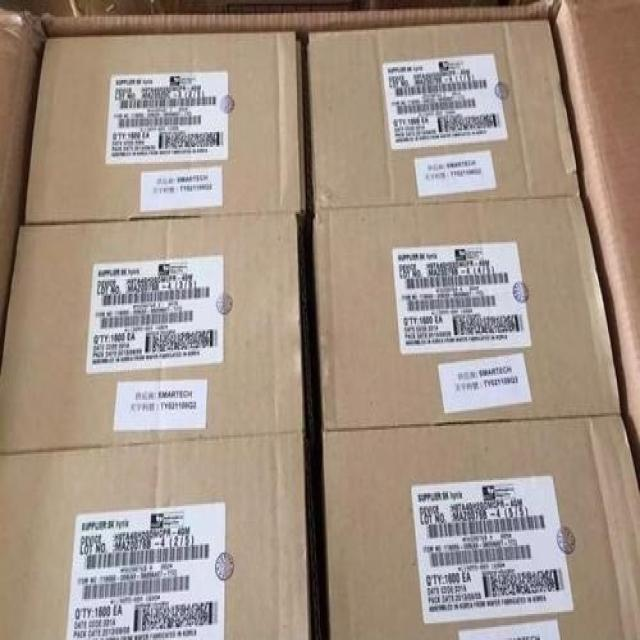box: (0, 214, 305, 452), (314, 195, 622, 430), (321, 415, 640, 640), (0, 432, 311, 640), (23, 30, 305, 221), (306, 19, 581, 208)
